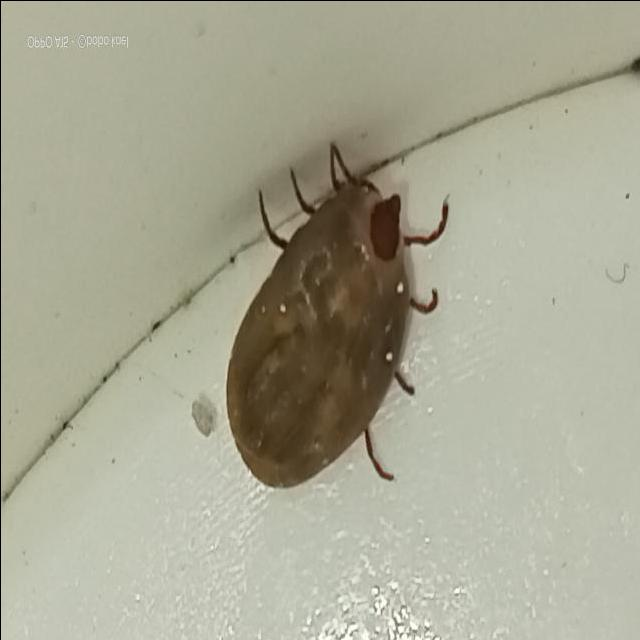Rhipicephalus Sanguineus-F-Fed: (225, 140, 449, 487)
